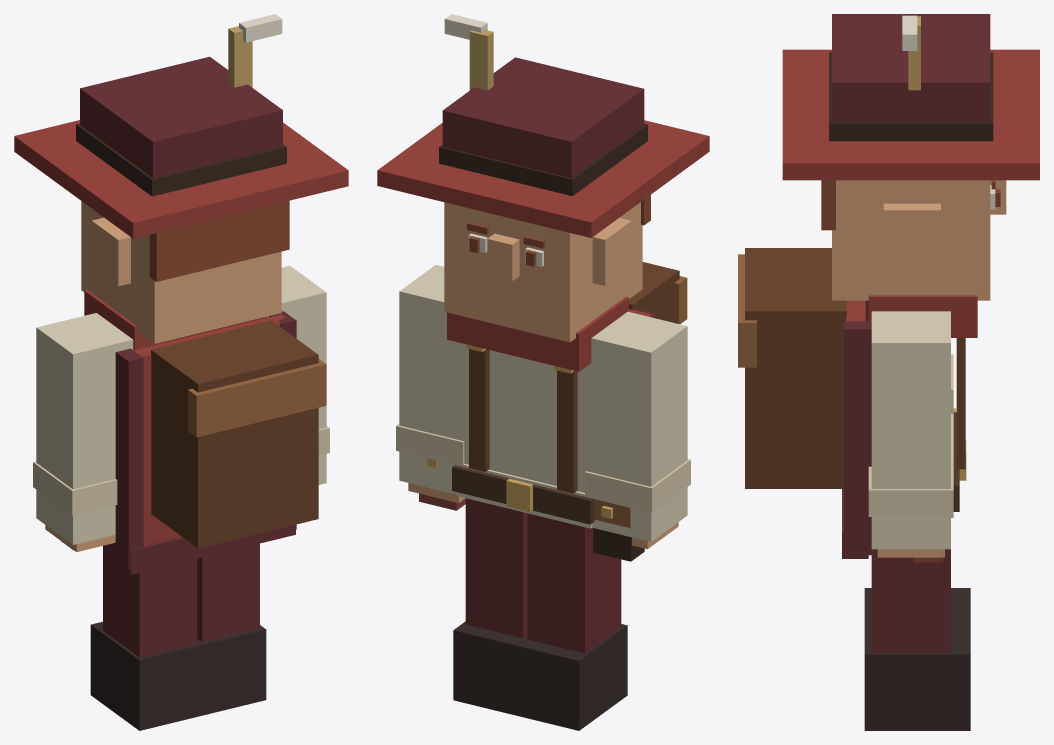
Rendered from merchant.obj.
The picture shows the model from 3 angles, left to right: view 1: azimuth 30°, elevation 25°; view 2: azimuth 150°, elevation 25°; view 3: azimuth 270°, elevation 25°; orthographic projection. The views are drawn at different scales.
Parts seen in each view (by area): view 1: equipment_back_36_backpack, head_32_hat_crown, right_arm_15_right_arm, head_31_hat_brim, head_3_head, right_leg_23_right_boot, right_leg_21_right_leg, head_14_hair_back, equipment_back_37_backpack_flap, equipment_back_28_cape_left_edge, left_leg_22_left_leg, left_leg_24_left_boot (+9 smaller); view 2: right_arm_15_right_arm, head_32_hat_crown, head_3_head, head_31_hat_brim, right_leg_21_right_leg, left_arm_16_left_arm, body_0_chest, right_leg_23_right_boot, left_leg_22_left_leg, left_leg_24_left_boot, body_48_scarf, head_33_hat_band (+15 smaller); view 3: equipment_back_36_backpack, head_31_hat_brim, left_arm_16_left_arm, head_32_hat_crown, head_3_head, left_leg_24_left_boot, left_leg_22_left_leg, equipment_back_29_cape_right_edge, head_33_hat_band, head_4_left_ear, body_48_scarf, left_arm_19_cuff (+8 smaller).
Boxes of the visible parts, box(x1,y1,x2,y2) form: equipment_back_36_backpack: box(151, 320, 318, 548); head_32_hat_crown: box(80, 56, 282, 178); right_arm_15_right_arm: box(36, 313, 133, 544); head_31_hat_brim: box(14, 120, 348, 238); head_3_head: box(81, 201, 281, 343); right_leg_23_right_boot: box(90, 621, 203, 730); right_leg_21_right_leg: box(103, 543, 197, 657); head_14_hair_back: box(149, 200, 289, 281); equipment_back_37_backpack_flap: box(188, 359, 326, 437); equipment_back_28_cape_left_edge: box(115, 348, 143, 570); left_leg_22_left_leg: box(197, 543, 259, 641); left_leg_24_left_boot: box(197, 625, 266, 715); right_arm_15_right_arm: box(588, 311, 687, 541); head_32_hat_crown: box(442, 57, 644, 177); head_3_head: box(444, 202, 642, 342); head_31_hat_brim: box(377, 120, 709, 237); right_leg_21_right_leg: box(527, 513, 621, 653); left_arm_16_left_arm: box(399, 265, 462, 494); body_0_chest: box(462, 343, 588, 492); right_leg_23_right_boot: box(515, 624, 627, 730); left_leg_22_left_leg: box(465, 498, 527, 638); left_leg_24_left_boot: box(453, 621, 527, 715); body_48_scarf: box(447, 296, 628, 371); head_33_hat_band: box(439, 124, 647, 195); equipment_back_36_backpack: box(745, 248, 846, 488); head_31_hat_brim: box(782, 49, 1039, 180); left_arm_16_left_arm: box(871, 311, 950, 549); head_32_hat_crown: box(832, 14, 990, 121); head_3_head: box(832, 180, 990, 300); left_leg_24_left_boot: box(864, 621, 970, 730); left_leg_22_left_leg: box(871, 549, 950, 652); equipment_back_29_cape_right_edge: box(844, 321, 871, 555); head_33_hat_band: box(829, 52, 993, 141); head_4_left_ear: box(883, 203, 940, 260); body_48_scarf: box(868, 295, 977, 337); left_arm_19_cuff: box(868, 454, 953, 516).
Bounding box in the file's own units: 1.02 × 2.49 × 0.9531.
